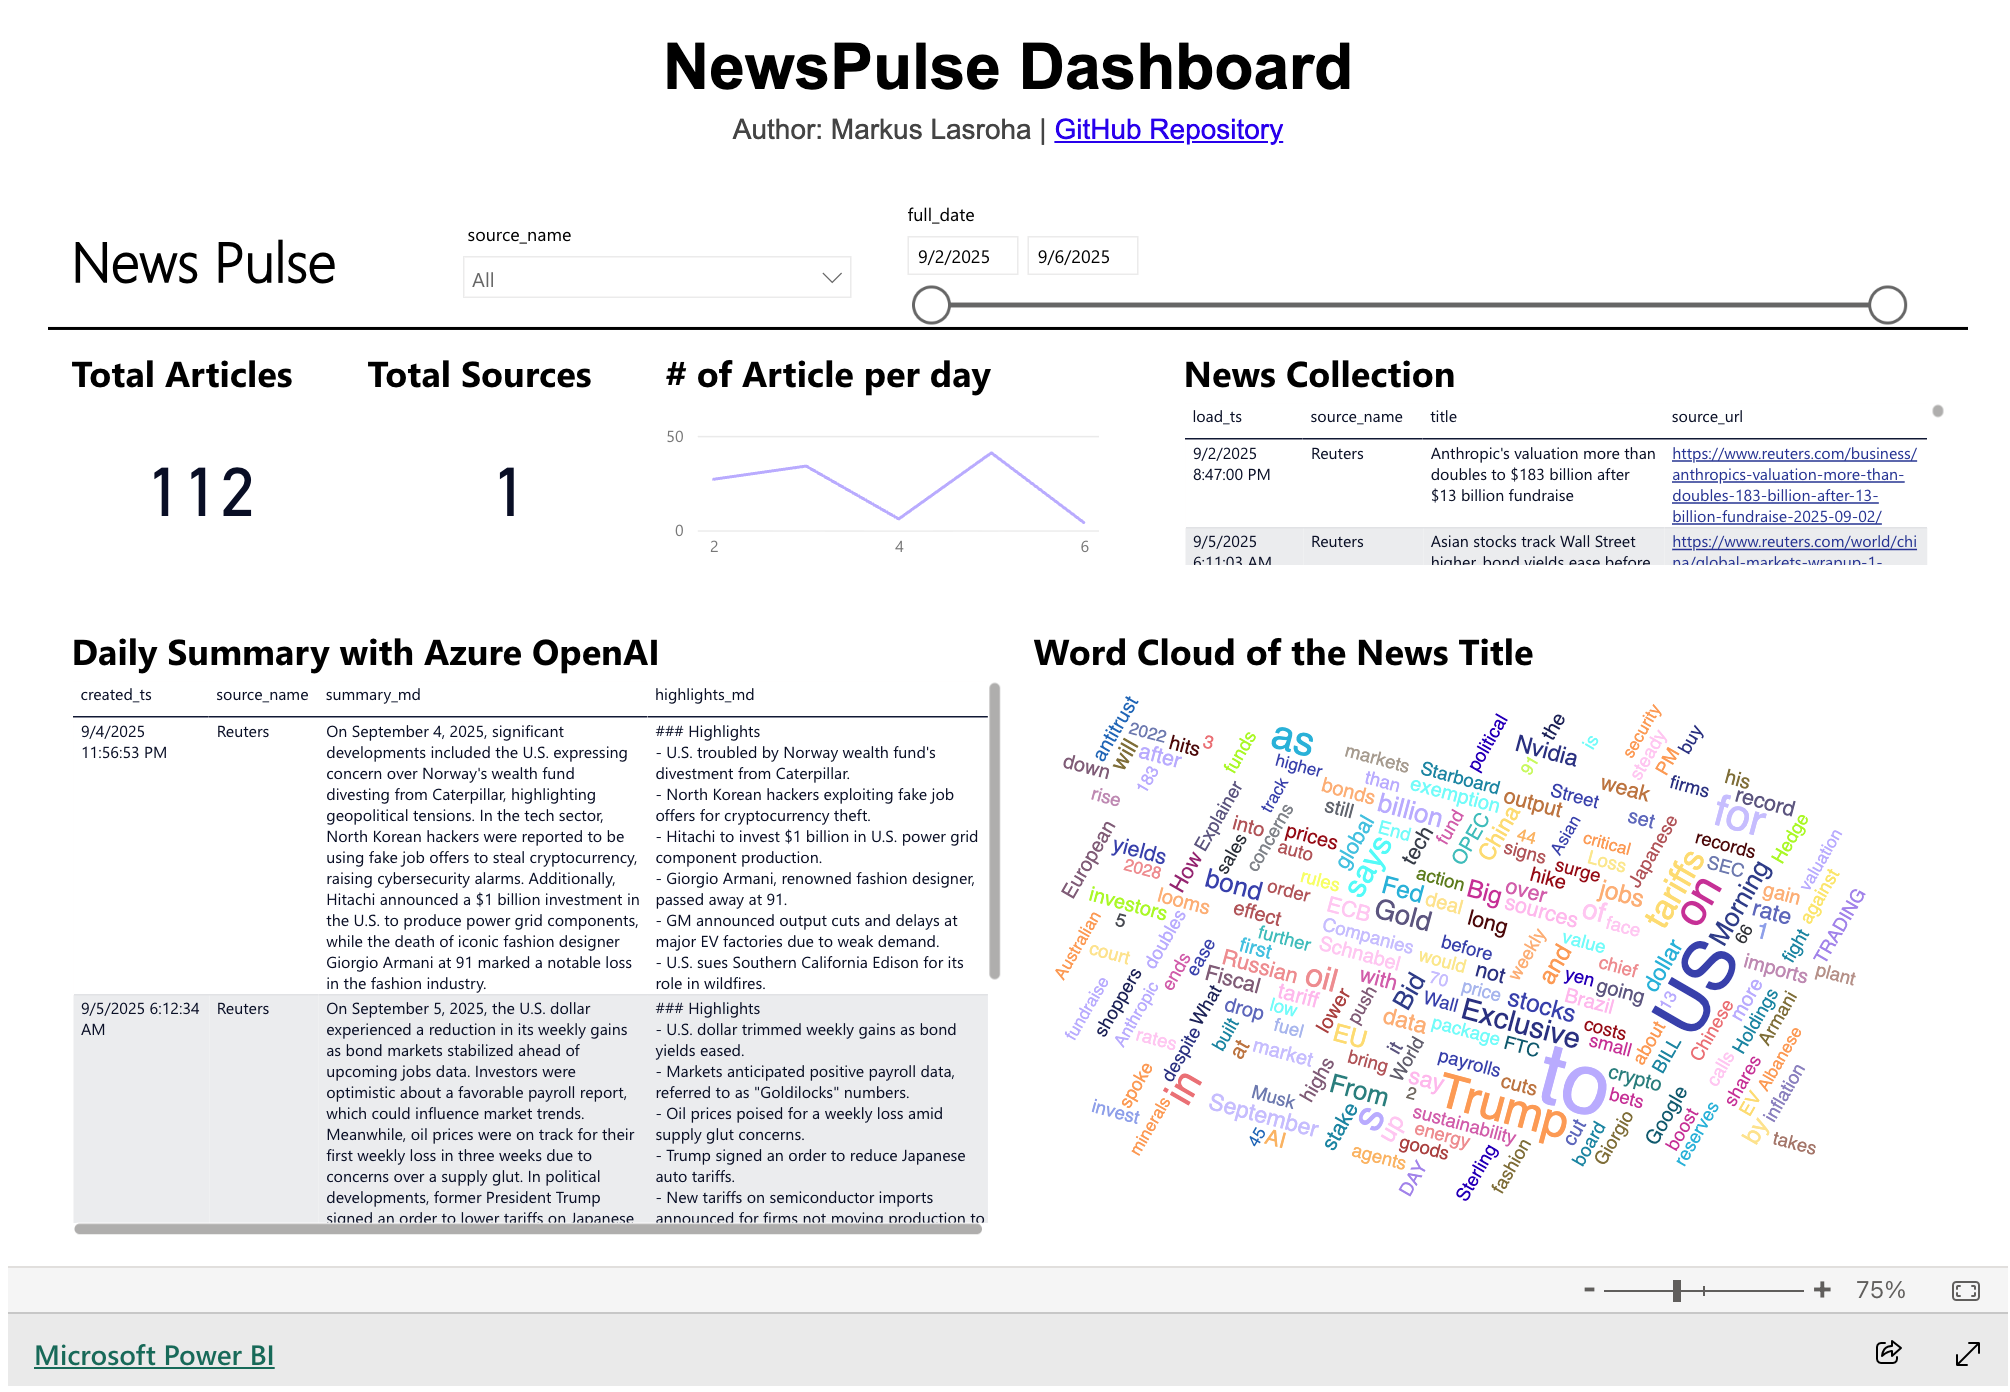

What the dashboard file says about the page in this screenshot:
{"tool":"powerbi","page":{"name":"Page 1","canvas":[1280,720],"ordinal":0},"visuals":[{"type":"textbox","box":[10.1,18.5,278.8,122.6],"z":0},{"type":"shape","box":[0,77.3,1280,35.3],"z":1000},{"type":"slicer","fields":{"Values":["dwh dim_source.source_name"]},"box":[267.1,18.5,278.8,75.6],"z":2000},{"type":"slicer","fields":{"Values":["dwh dim_date.full_date"]},"box":[559.4,5,687,102.5],"z":3000},{"type":"card","title":"Total Articles","fields":{"Values":["dwh fact_article.count_article"]},"box":[10.1,107.5,278.8,149.5],"z":4000},{"type":"card","title":"Total Sources","fields":{"Values":["dwh fact_article.count_sources"]},"box":[322.5,112.5,278.8,149.5],"z":5000},{"type":"lineChart","title":"# of Article per day","fields":{"Category":["dwh dim_date.full_date.Variation.Date Hierarchy.Day"],"Y":["dwh fact_article.count_article"]},"box":[640,112.5,606.4,151.2],"z":6000},{"type":"WordCloud1447959067750","title":"Word Cloud of the News Title","fields":{"Category":["dwh fact_article.title"]},"box":[651.8,294,614.8,411.5],"z":6001},{"type":"tableEx","title":"News Collection","fields":{"Values":["dwh fact_article.load_ts","dwh dim_source.source_name","dwh fact_article.title","dwh dim_source.source_url"]},"box":[10.1,294,629.9,411.5],"z":6002}]}

Visuals, with their boxes on the page's 1280x720 design canvas (x1, y1, x2, y2). These are canvas units, not pixel positions in the 2010x1392 screenshot, which may show the page scaled, cropped or inside an application window:
textbox: detection(10, 18, 289, 141)
shape: detection(0, 77, 1280, 113)
slicer - dwh dim_source.source_name: detection(267, 18, 546, 94)
slicer - dwh dim_date.full_date: detection(559, 5, 1246, 108)
"Total Articles" card: detection(10, 108, 289, 257)
"Total Sources" card: detection(322, 112, 601, 262)
"# of Article per day" lineChart: detection(640, 112, 1246, 264)
"Word Cloud of the News Title" WordCloud1447959067750: detection(652, 294, 1267, 706)
"News Collection" tableEx: detection(10, 294, 640, 706)
